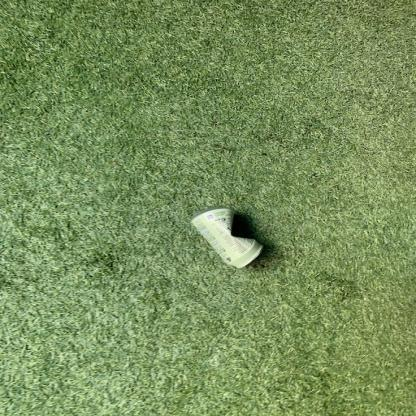trash: (186, 203, 271, 271)
